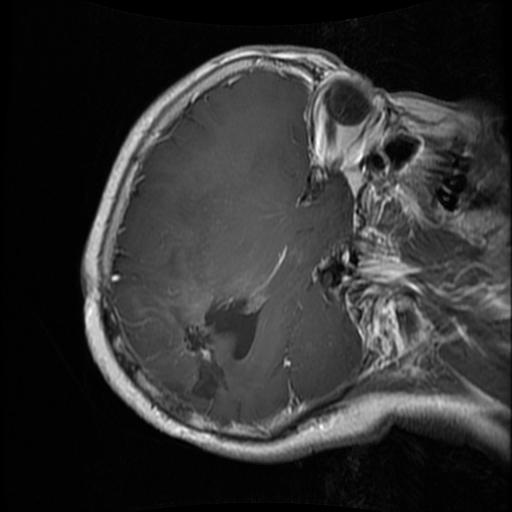glioma: (157, 296, 264, 402)
